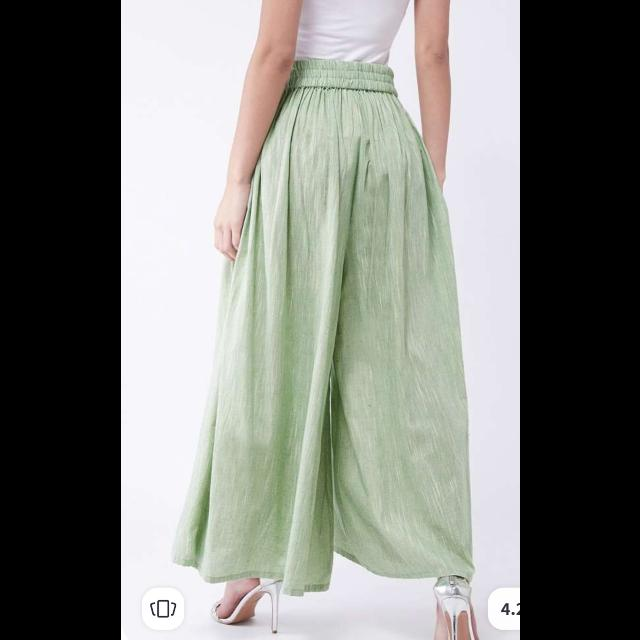bottom: (212, 60, 473, 572)
shoes: (430, 578, 480, 640), (217, 582, 281, 628)
top: (301, 2, 403, 56)
